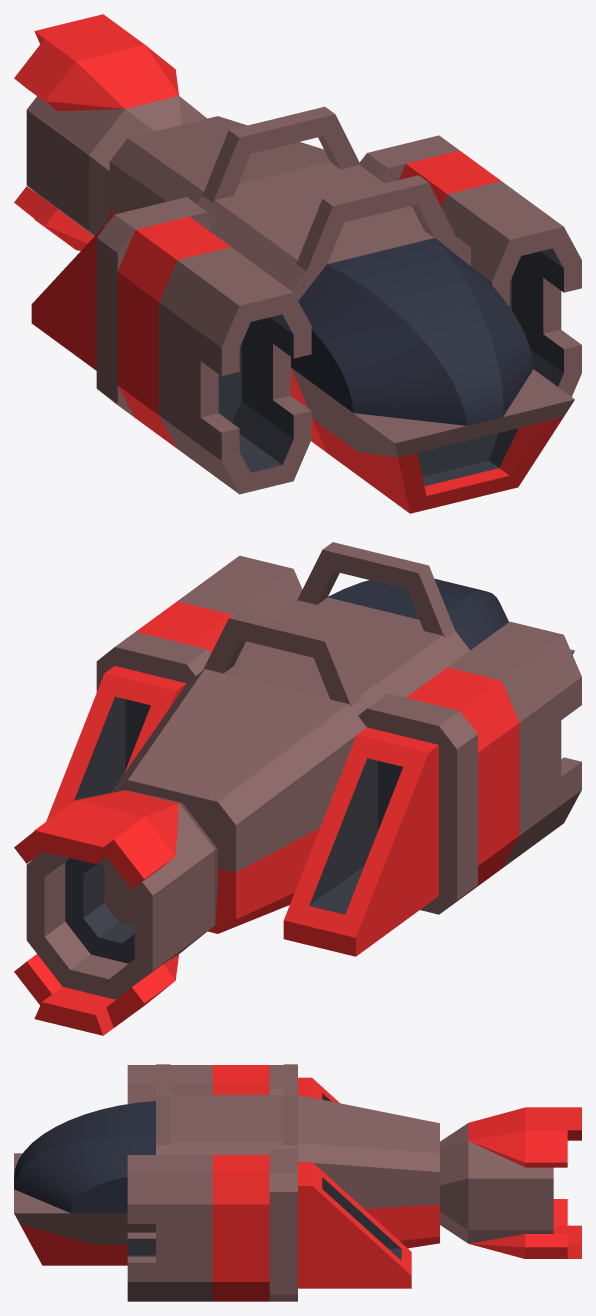
The model's file is enemy_sub.glb.
3 renders of one model, top to bottom at view 1: azimuth 30°, elevation 25°; view 2: azimuth 150°, elevation 25°; view 3: azimuth 270°, elevation 25°, orthographic. The views are drawn at different scales.
Visible parts, largest first — view 1: mergedBlocks(Clone); view 2: mergedBlocks(Clone); view 3: mergedBlocks(Clone).
Boxes of the visible parts, box(x1,y1,x2,y2) form: mergedBlocks(Clone): box(14, 14, 581, 513); mergedBlocks(Clone): box(14, 542, 581, 1035); mergedBlocks(Clone): box(14, 1064, 581, 1301).
Size of the model in its own units: 2 by 1.3 by 4.
